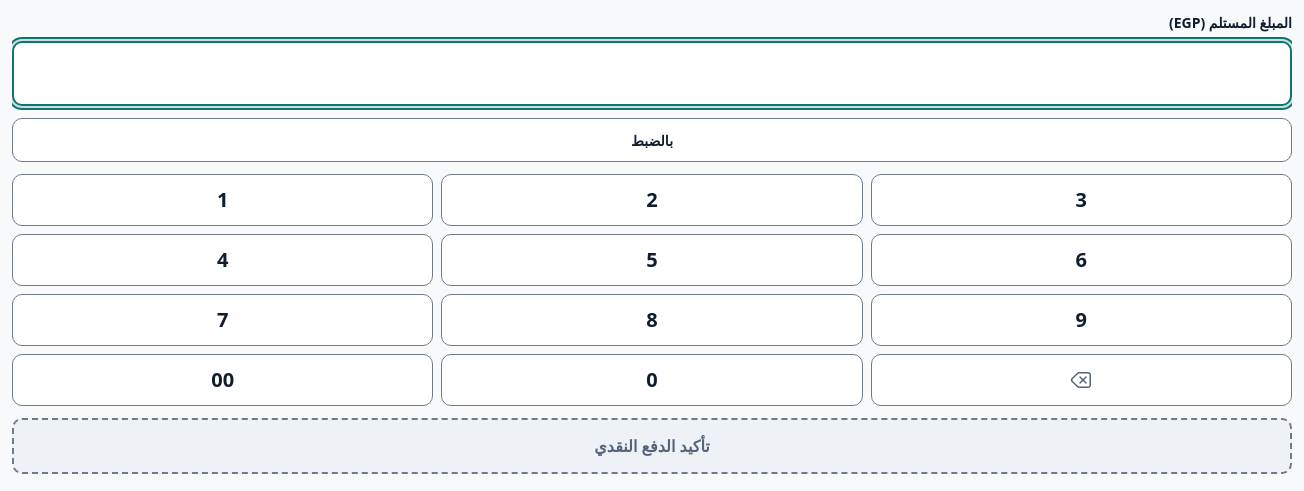
Test case: RT-259 — CashEntry amount input › Persian «۵۰» shows "50"
In the field with test id "cash-entry-amount-input": (652, 74) x1=12 y1=41 x2=1292 y2=106, type "۵۰"
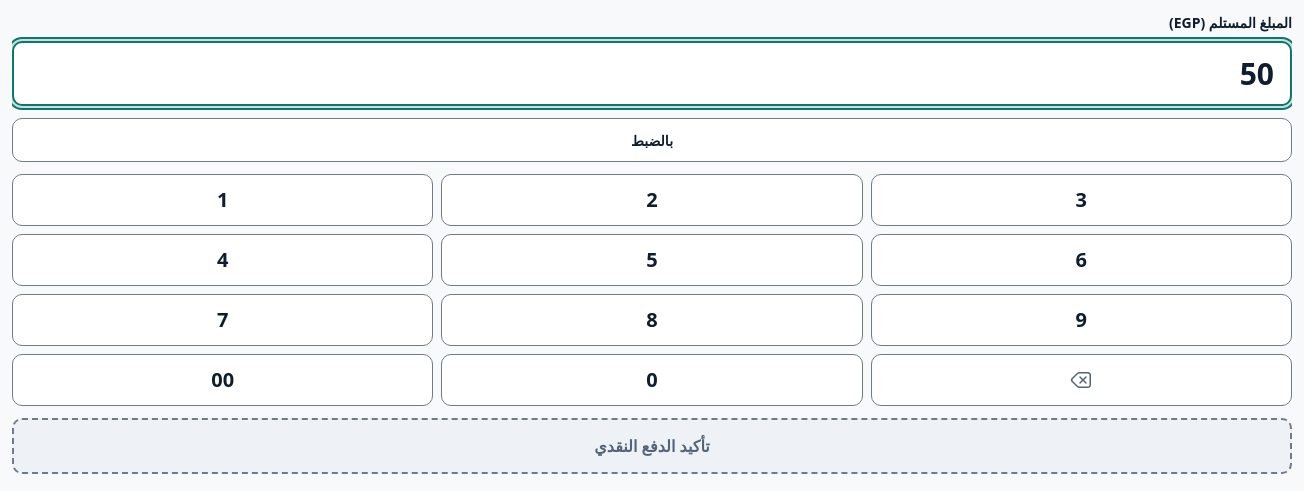
expect the field with test id "cash-entry-amount-input" holds "50": met, box x1=12 y1=41 x2=1292 y2=106
